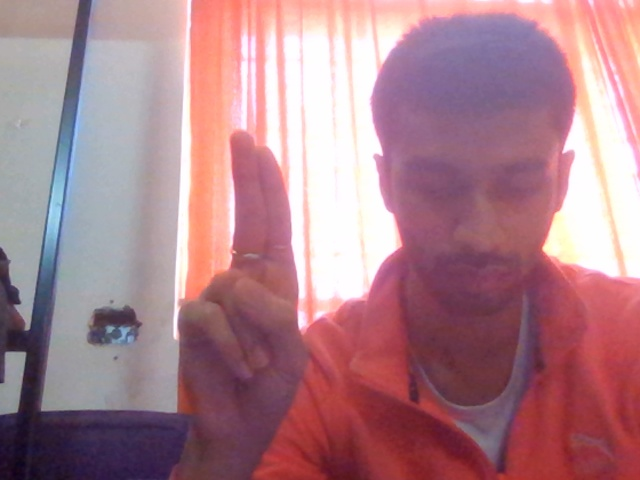U: (135, 106, 378, 480)
